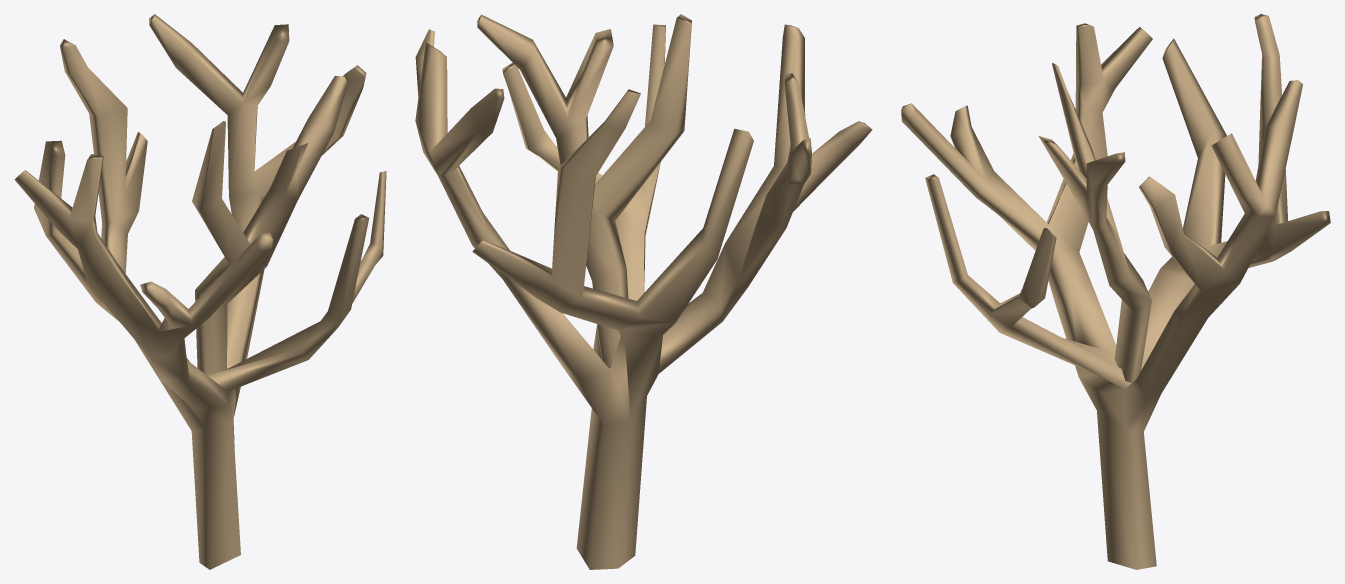
File: Bush_A.fbx
The picture shows the model from 3 angles, left to right: view 1: azimuth 30°, elevation 25°; view 2: azimuth 150°, elevation 25°; view 3: azimuth 270°, elevation 25°; orthographic projection. The views are drawn at different scales.
Parts seen in each view (by area): view 1: Bush_A; view 2: Bush_A; view 3: Bush_A.
Boxes of the visible parts, bbox=[...] form: Bush_A: bbox=[14, 14, 386, 569]; Bush_A: bbox=[415, 14, 872, 569]; Bush_A: bbox=[901, 14, 1330, 569].
Bounding box in the file's own units: 103 × 138 × 105.
